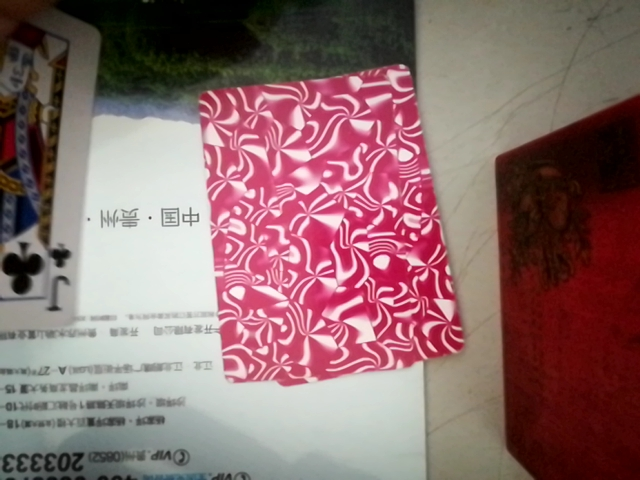mh j: (0, 0, 104, 327)
